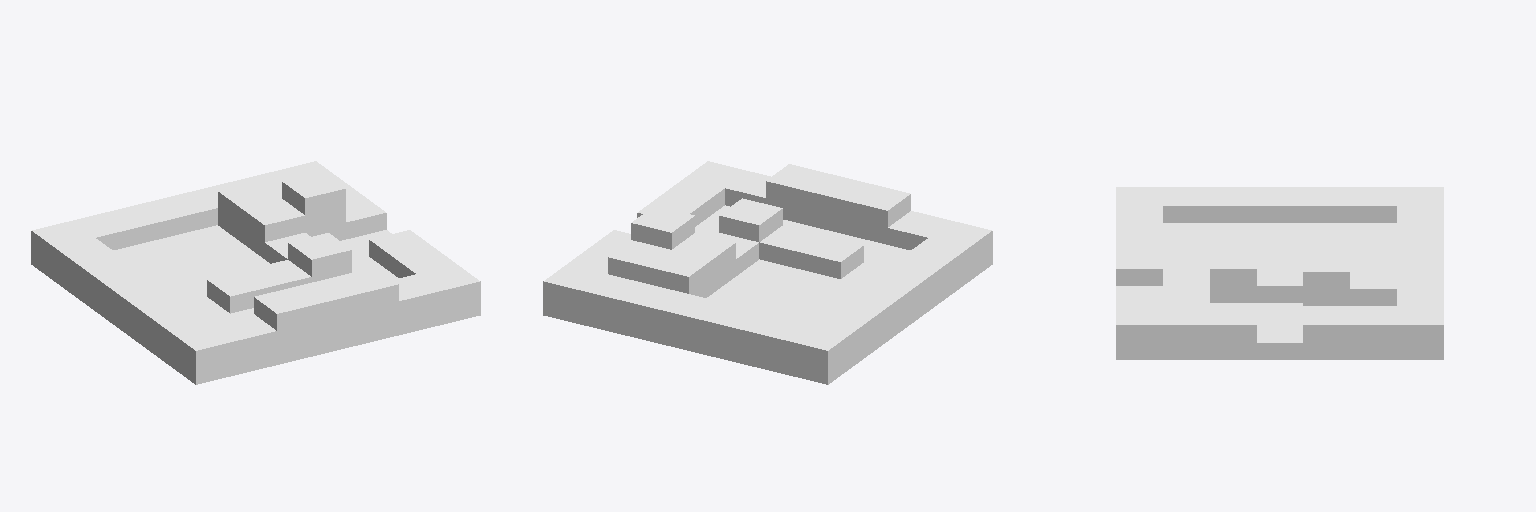
File: EndOne.obj
3 views of the same model, side by side, from view 1: azimuth 30°, elevation 25°; view 2: azimuth 150°, elevation 25°; view 3: azimuth 270°, elevation 25° (orthographic).
Visible parts, largest first — view 1: object 1; view 2: object 1; view 3: object 1.
Part boxes in pixels (left/top/right/bottom): object 1: left=31, top=161, right=480, bottom=384; object 1: left=543, top=161, right=992, bottom=384; object 1: left=1116, top=187, right=1443, bottom=359.
Bounding box in the file's own units: 7 × 1.6 × 7.